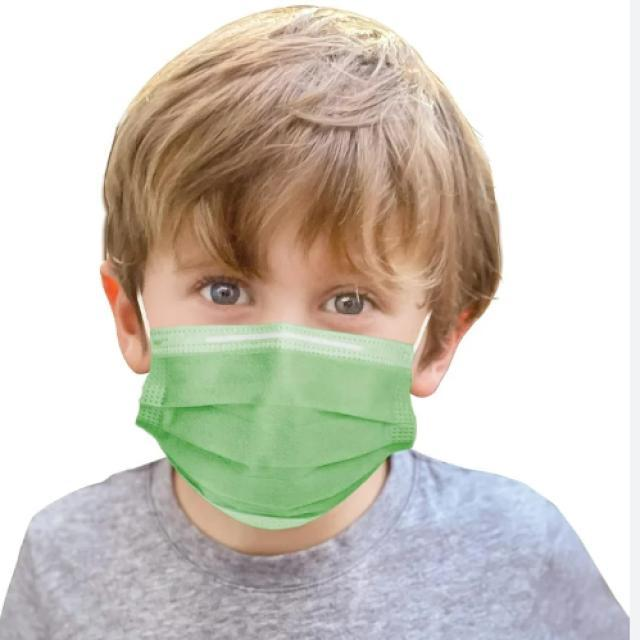face_mask: (93, 210, 470, 512)
